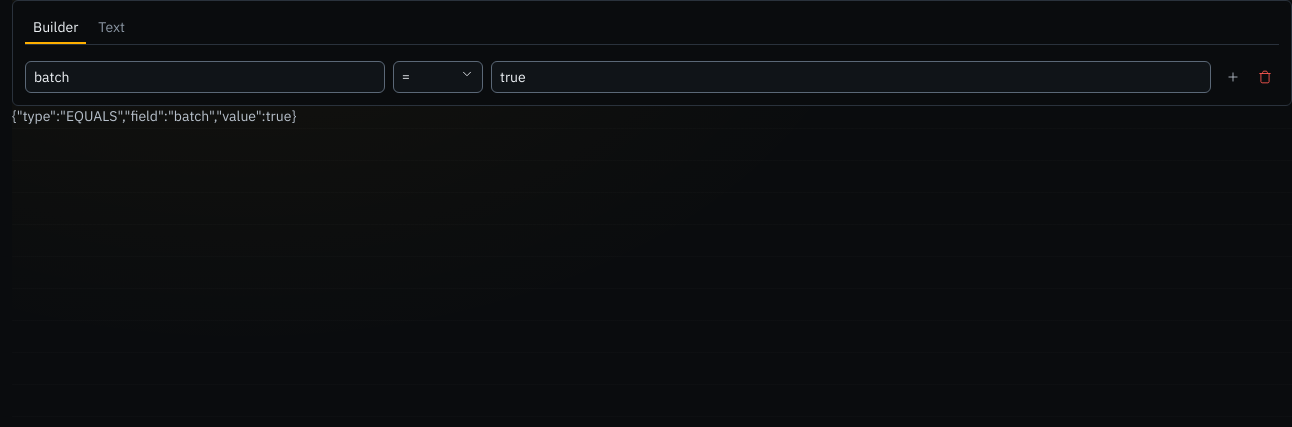
Scenario: ConditionEditor — boolean operand on a string-shaped operator › prints the coerced operand in the Text tab
The image size is (1292, 427).
Click the dropdown: point(438, 77) [393,61,483,93]
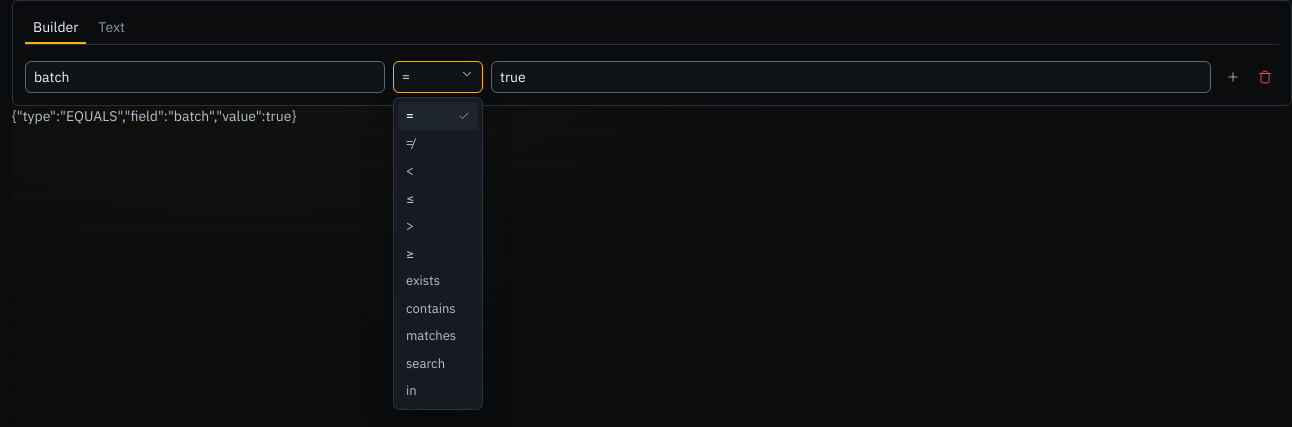
Click the option "search": point(426, 363) [406,354,445,372]
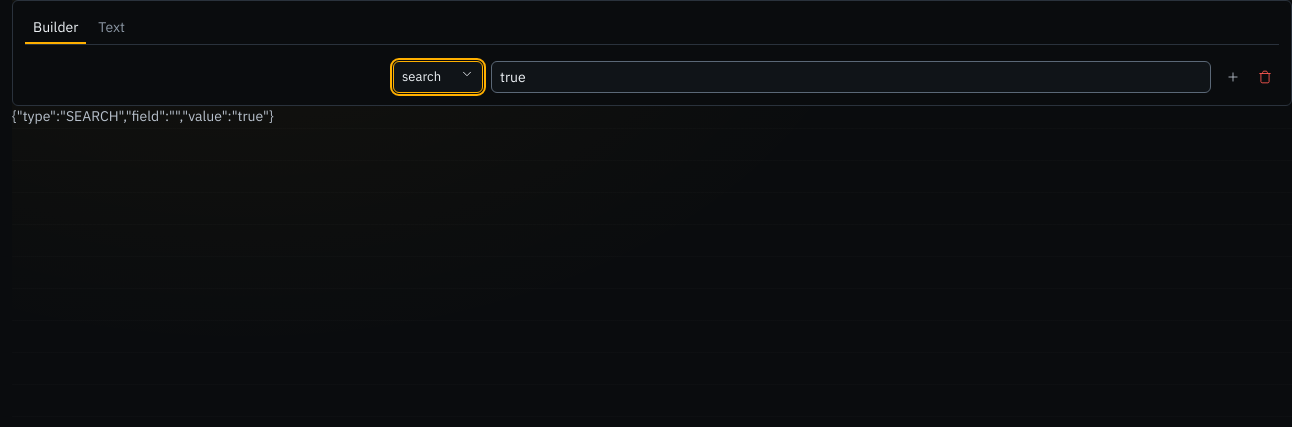
Click the tab "Text": point(112, 28) [90,13,133,44]
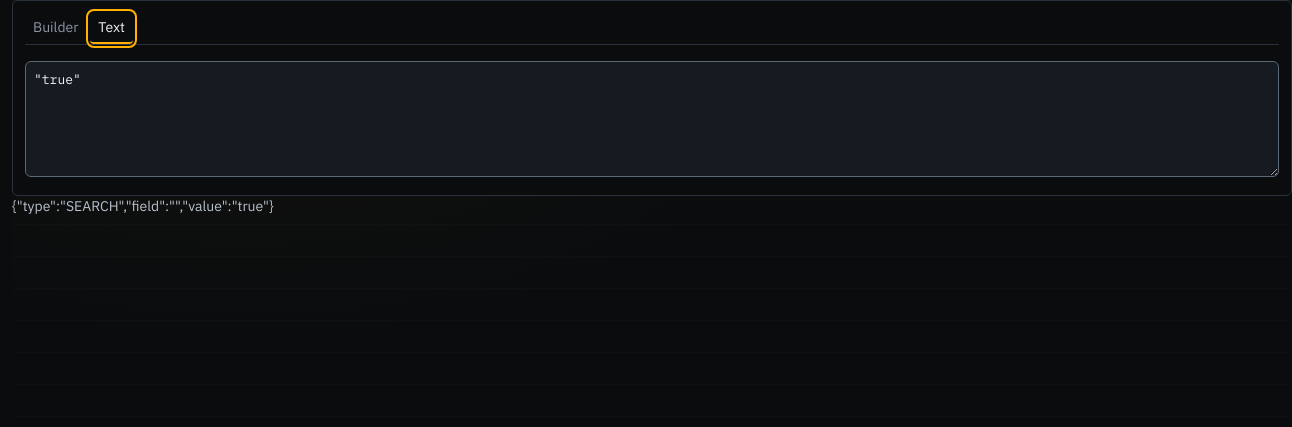
Result: the text box holds "\"true\"" at [25,61,1279,176]
